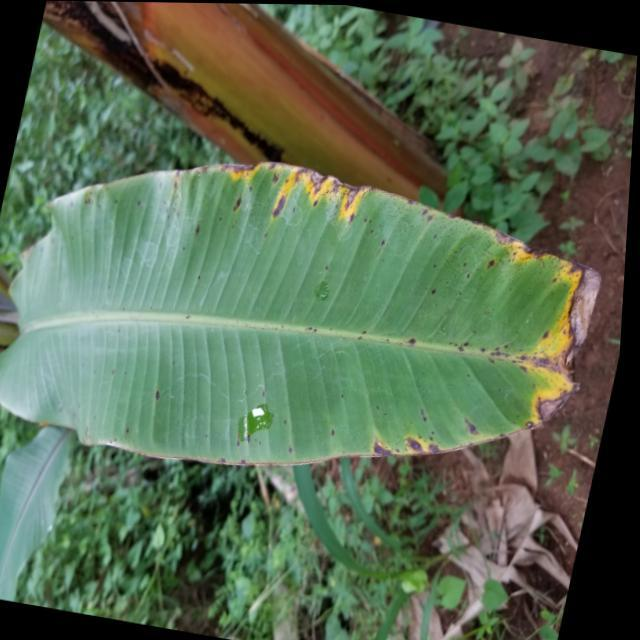Early_rust: (130, 148, 612, 483)
